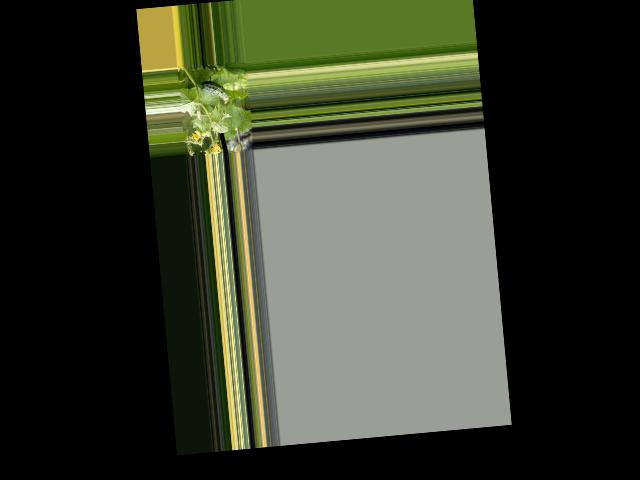cucumber: (199, 79, 229, 106)
